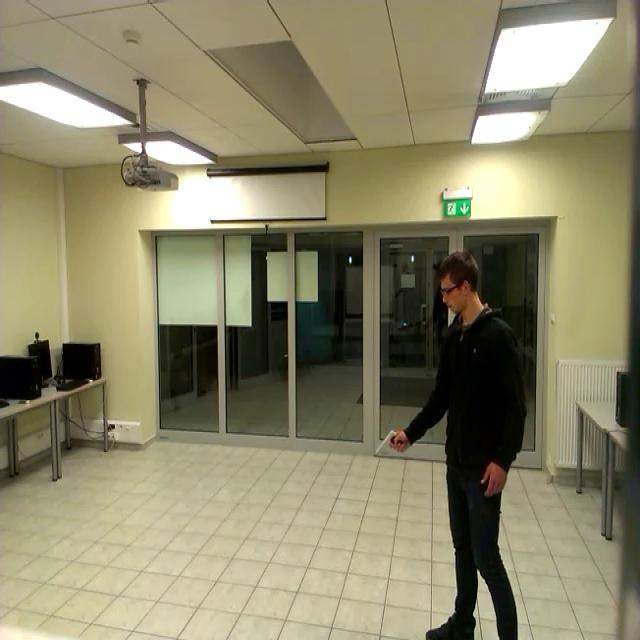Gun: (373, 406, 410, 466)
